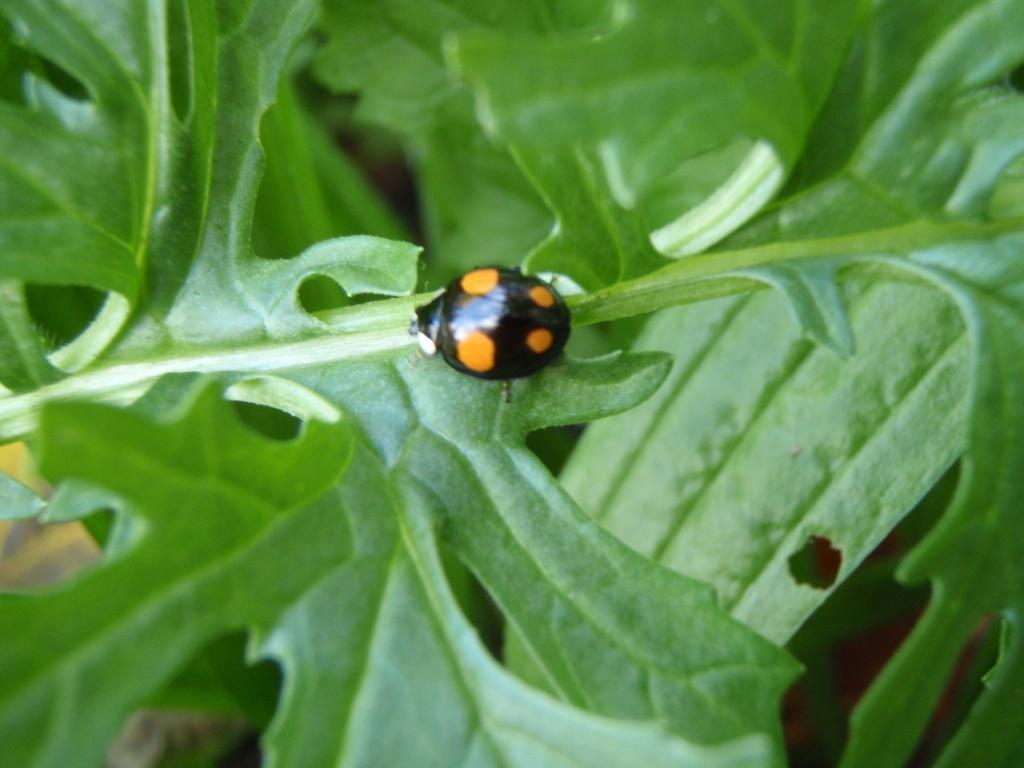ladybug: (407, 265, 577, 407)
